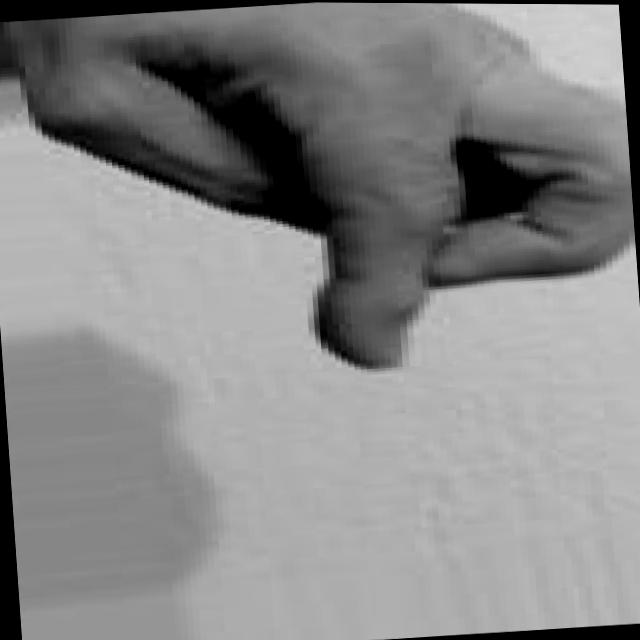P: (0, 0, 640, 402)
